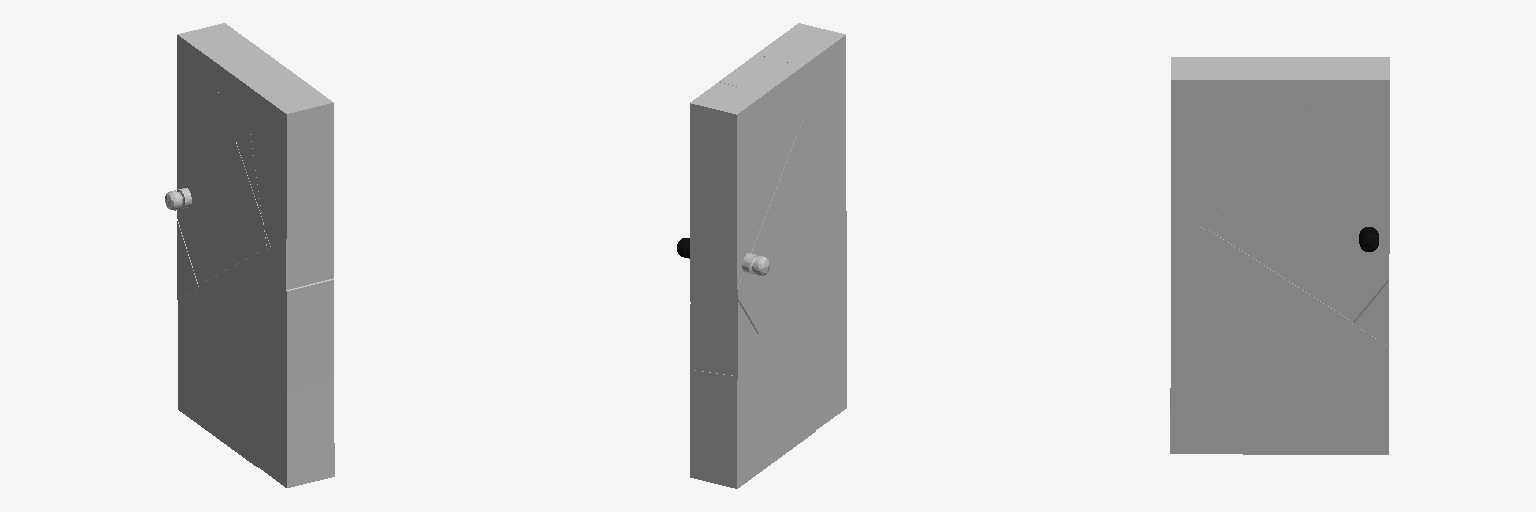
The model's file is Destroyed Door.obj.
The picture shows the model from 3 angles: view 1: azimuth 30°, elevation 25°; view 2: azimuth 150°, elevation 25°; view 3: azimuth 270°, elevation 25°; orthographic projection.
Visible parts, largest first — view 1: Part_2_Cube.004, Part_12_Cube.014, Part_4_Cube.006, Part_5_Cube.007, Part_1_Cube.003, Part_11_Cube.013, Part_6_Cube.008, Part_10_Cube.012, Part_7_Cube.009, Part_3_Cube.005, Part_8_Cube.010; view 2: Part_5_Cube.007, Part_1_Cube.003, Part_2_Cube.004, Part_4_Cube.006, Part_12_Cube.014, Part_3_Cube.005, Part_6_Cube.008, Part_7_Cube.009, Part_11_Cube.013, Part_8_Cube.010; view 3: Part_2_Cube.004, Part_4_Cube.006, Part_5_Cube.007, Part_1_Cube.003, Part_12_Cube.014, Part_6_Cube.008, Part_7_Cube.009, Part_11_Cube.013, Part_8_Cube.010, Part_3_Cube.005, Part_10_Cube.012.
Part boxes in pixels (bbox=[...]): Part_2_Cube.004: bbox=[199, 249, 334, 487]; Part_12_Cube.014: bbox=[250, 91, 333, 245]; Part_4_Cube.006: bbox=[177, 142, 266, 284]; Part_5_Cube.007: bbox=[177, 23, 252, 192]; Part_1_Cube.003: bbox=[178, 285, 256, 466]; Part_11_Cube.013: bbox=[267, 247, 333, 388]; Part_6_Cube.008: bbox=[206, 44, 289, 141]; Part_10_Cube.012: bbox=[271, 232, 333, 289]; Part_7_Cube.009: bbox=[243, 71, 316, 127]; Part_3_Cube.005: bbox=[177, 221, 198, 299]; Part_8_Cube.010: bbox=[237, 129, 261, 215]; Part_5_Cube.007: bbox=[690, 82, 794, 290]; Part_1_Cube.003: bbox=[690, 334, 815, 488]; Part_2_Cube.004: bbox=[759, 199, 846, 429]; Part_4_Cube.006: bbox=[690, 136, 826, 333]; Part_12_Cube.014: bbox=[783, 23, 845, 188]; Part_3_Cube.005: bbox=[690, 300, 758, 379]; Part_6_Cube.008: bbox=[719, 54, 809, 137]; Part_7_Cube.009: bbox=[757, 35, 831, 101]; Part_11_Cube.013: bbox=[827, 189, 846, 306]; Part_8_Cube.010: bbox=[797, 103, 821, 172]; Part_2_Cube.004: bbox=[1170, 230, 1351, 453]; Part_4_Cube.006: bbox=[1210, 146, 1388, 322]; Part_5_Cube.007: bbox=[1273, 57, 1389, 253]; Part_1_Cube.003: bbox=[1243, 323, 1388, 454]; Part_12_Cube.014: bbox=[1171, 57, 1243, 226]; Part_6_Cube.008: bbox=[1244, 57, 1332, 145]; Part_7_Cube.009: bbox=[1200, 57, 1257, 118]; Part_11_Cube.013: bbox=[1171, 226, 1207, 344]; Part_8_Cube.010: bbox=[1217, 120, 1271, 205]; Part_3_Cube.005: bbox=[1353, 279, 1388, 346]; Part_10_Cube.012: bbox=[1171, 207, 1197, 255].
Bounding box in the file's own units: 1.88 × 7.54 × 4.